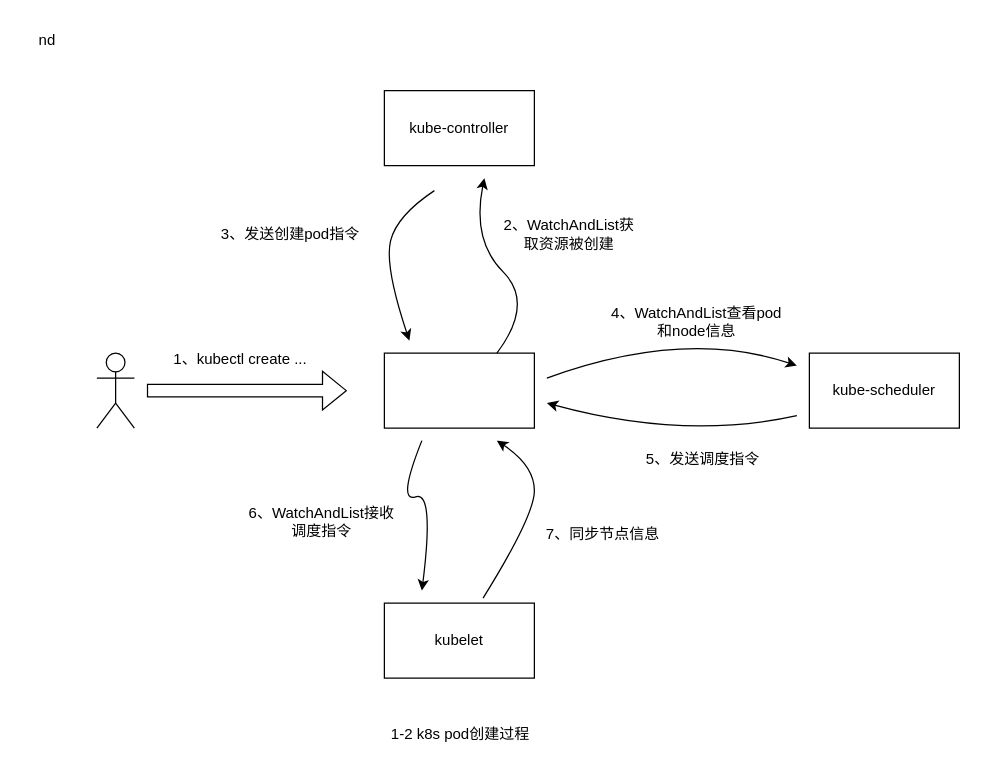
The diagram is 981 pixels wide and 774 high, and some of its shapes have lost their labels. Here are the shapes that lost their labels. From the top down, the centre of each, then its label:
At (115,390): "Actor".
At (458,390): "API Server".
